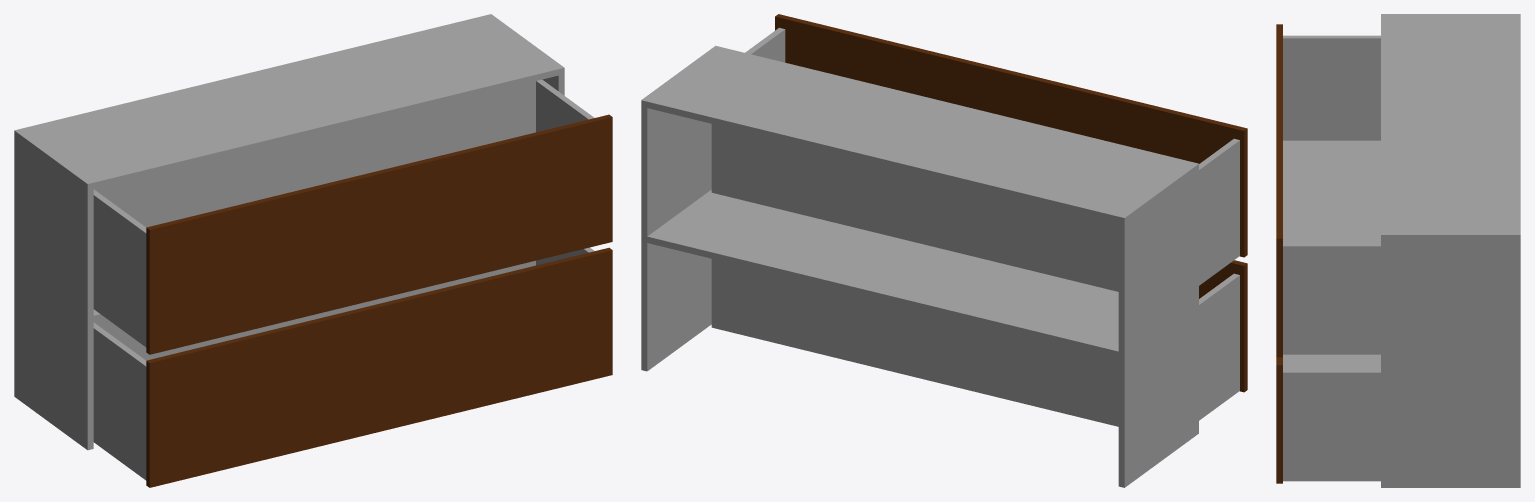
The model's file is meuble_68fb24af1cf5a.glb.
The picture shows the model from 3 angles, left to right: view 1: azimuth 30°, elevation 25°; view 2: azimuth 150°, elevation 25°; view 3: azimuth 270°, elevation 25°; orthographic projection. The views are drawn at different scales.
Parts seen in each view (by area): view 1: world; view 2: world; view 3: world.
Part boxes in pixels (x1,y1,x2,y2): world: [14, 14, 612, 487]; world: [641, 14, 1247, 487]; world: [1276, 14, 1520, 487].
Size of the model in its own units: 1.5 by 0.8 by 0.7.
1 material, 1 textured.
